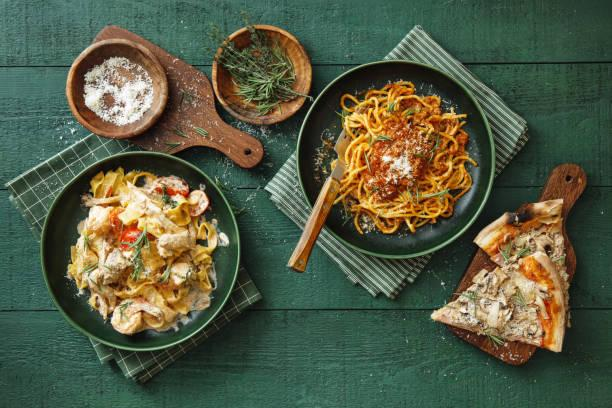Braised Crucian Carp: (295, 59, 492, 259), (40, 152, 237, 351), (435, 163, 588, 366)
